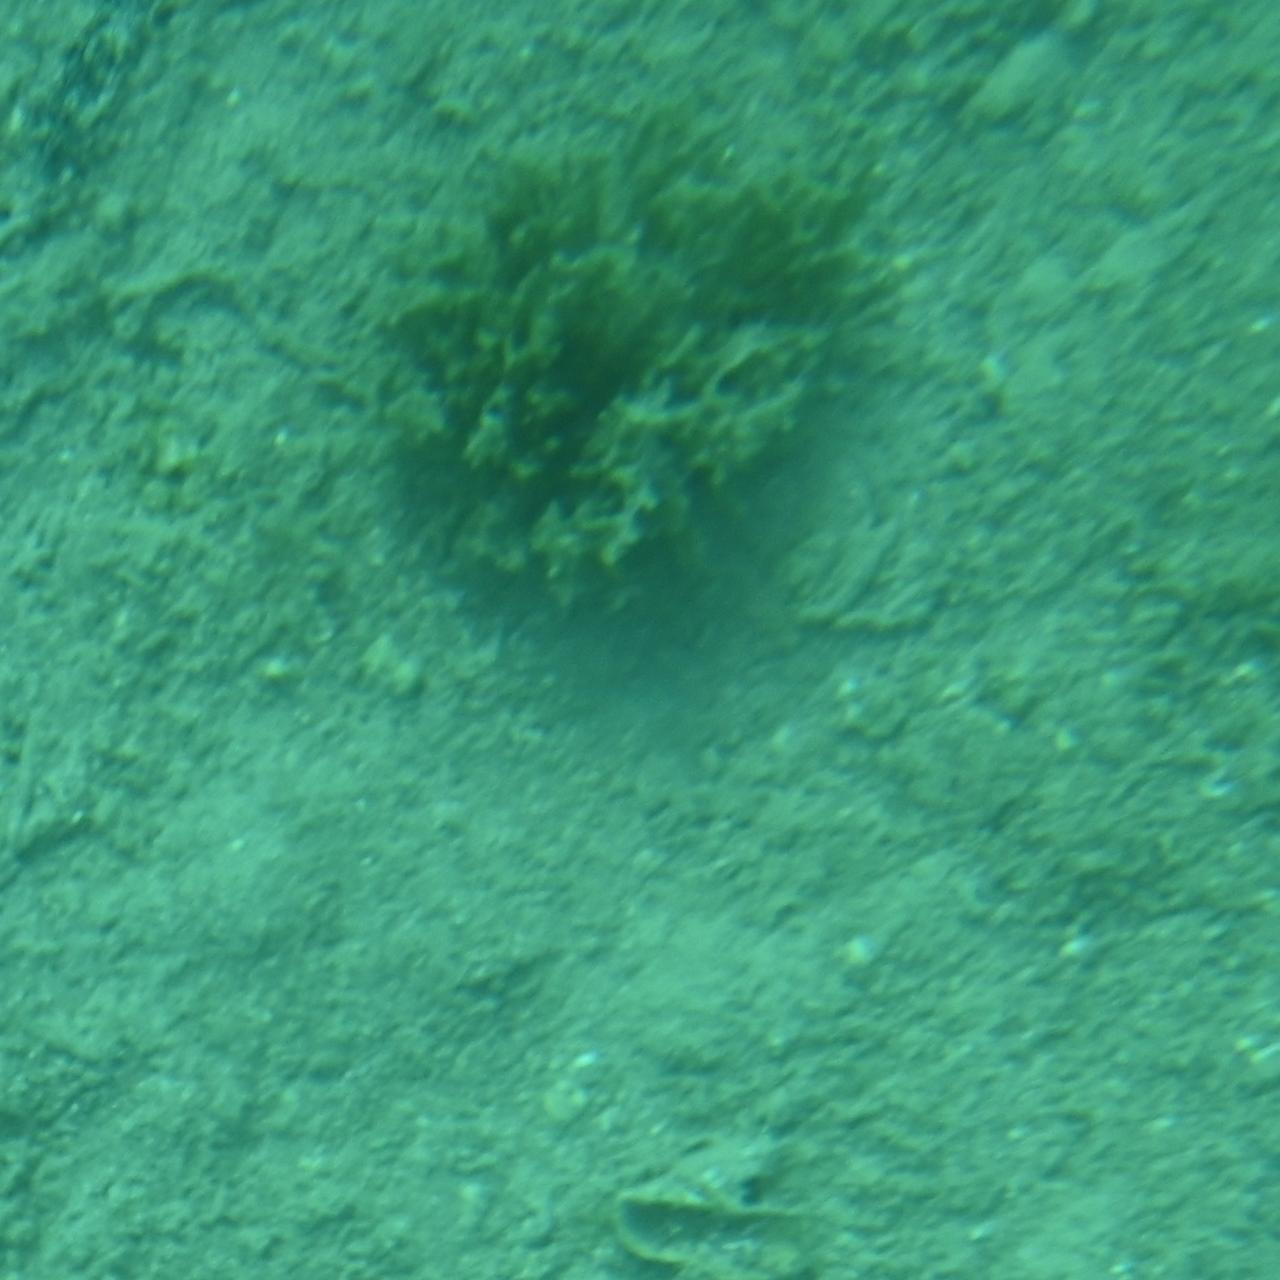Phaeophyceae -cfr Cystoseira-: (382, 130, 898, 629)
